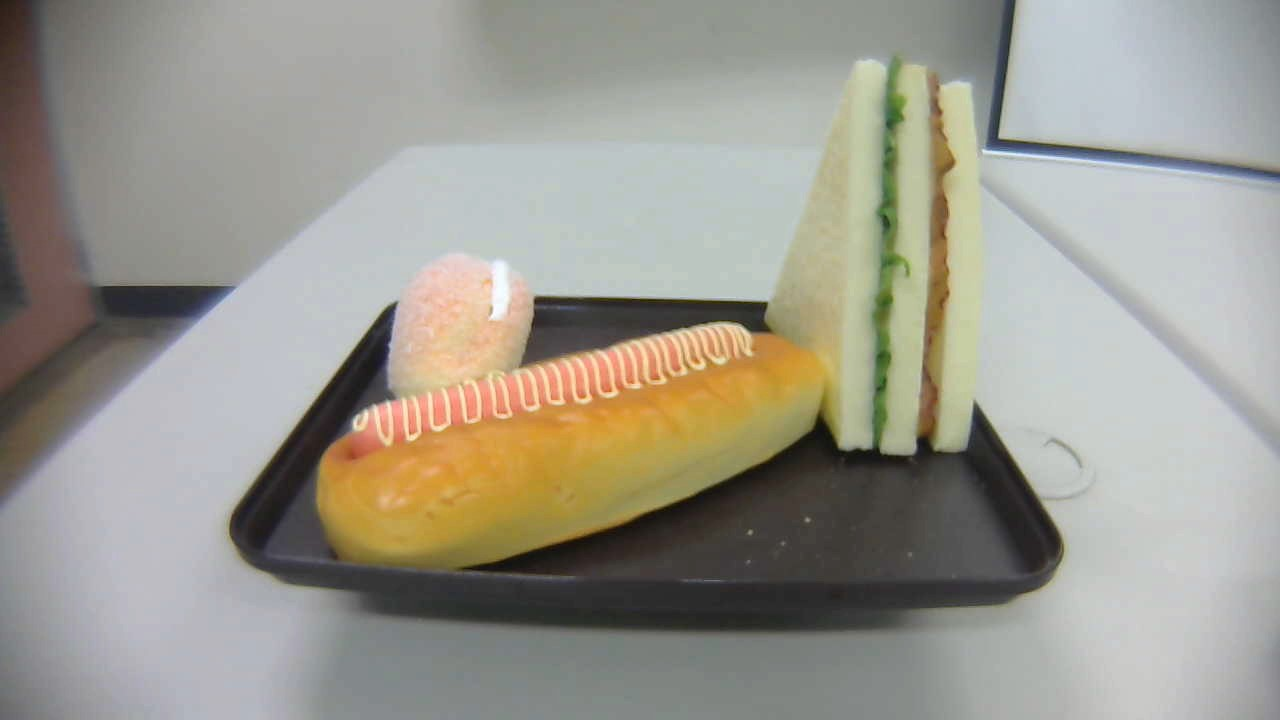coconut: (386, 251, 533, 400)
hot dog: (314, 323, 826, 577)
sandwich: (763, 57, 980, 460)
